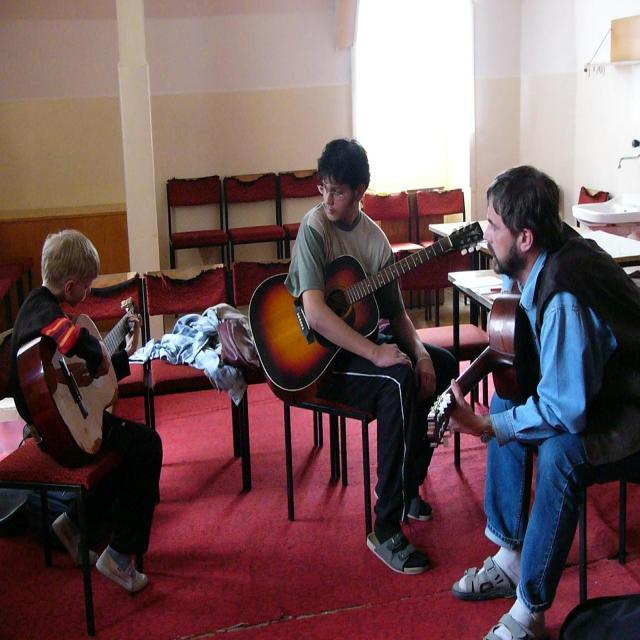guitar: (248, 219, 487, 403), (15, 295, 144, 466), (423, 292, 555, 452)
